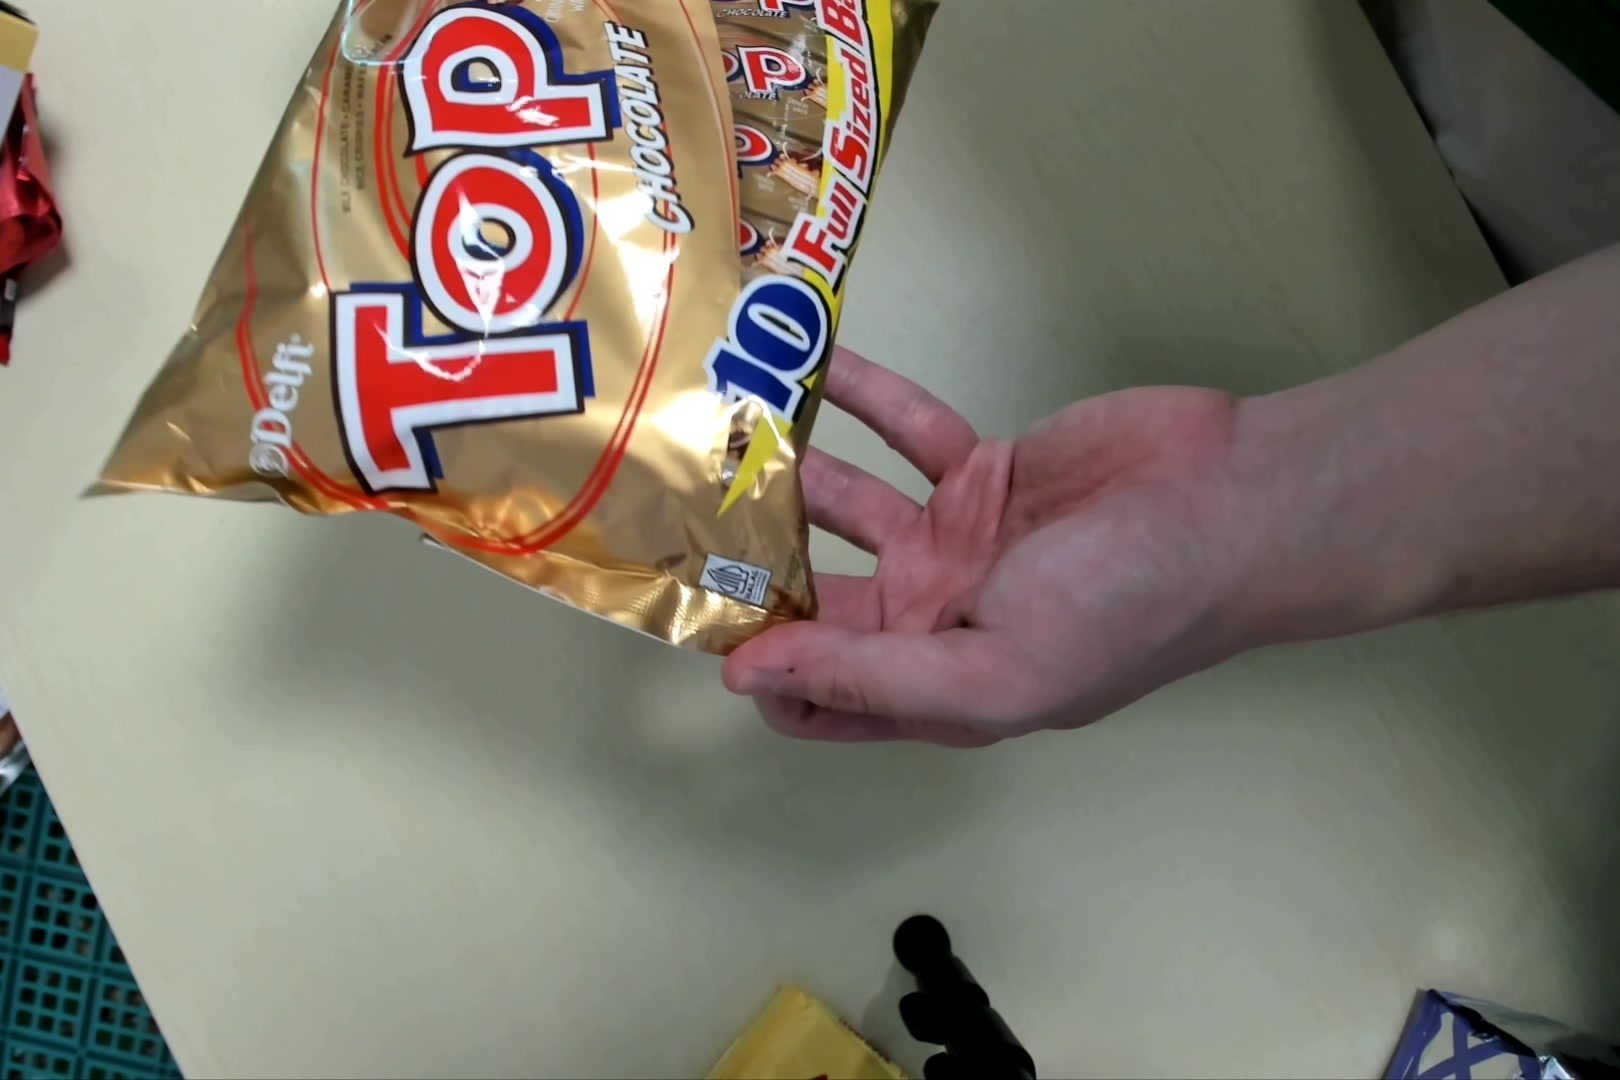SweetsChocolatesOthers_100-199g_NonHalal_NonHealthy: (77, 4, 941, 648)
